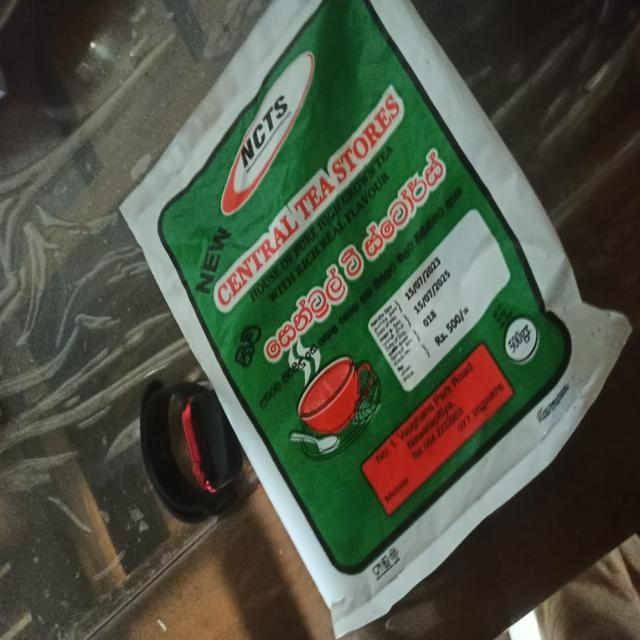Central Tea: (131, 14, 595, 640)
